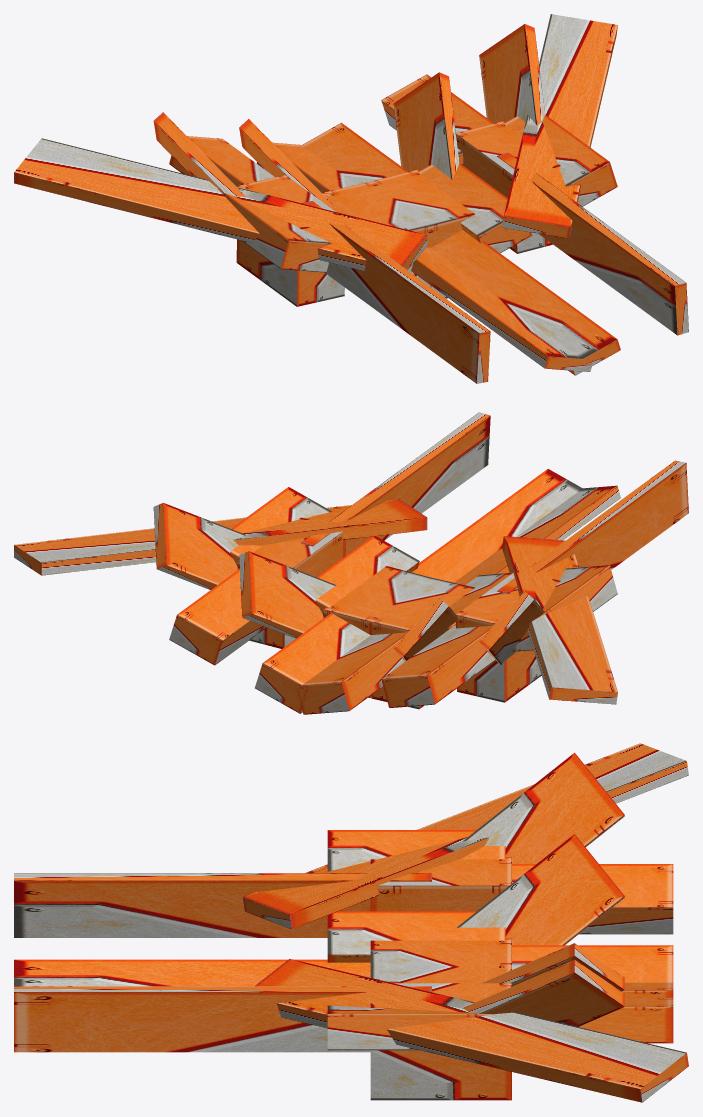
The model's file is E_shipclass4.fbx.
3 renders of one model, top to bottom at view 1: azimuth 30°, elevation 25°; view 2: azimuth 150°, elevation 25°; view 3: azimuth 270°, elevation 25°, orthographic. The views are drawn at different scales.
Visible parts, largest first — view 1: Enemyship04; view 2: Enemyship04; view 3: Enemyship04.
Boxes of the visible parts, x1,y1,x2,y2 form: Enemyship04: [14, 14, 688, 383]; Enemyship04: [14, 412, 688, 714]; Enemyship04: [14, 743, 688, 1102].
Size of the model in its own units: 704 by 191 by 581.
1 material, 1 textured.
